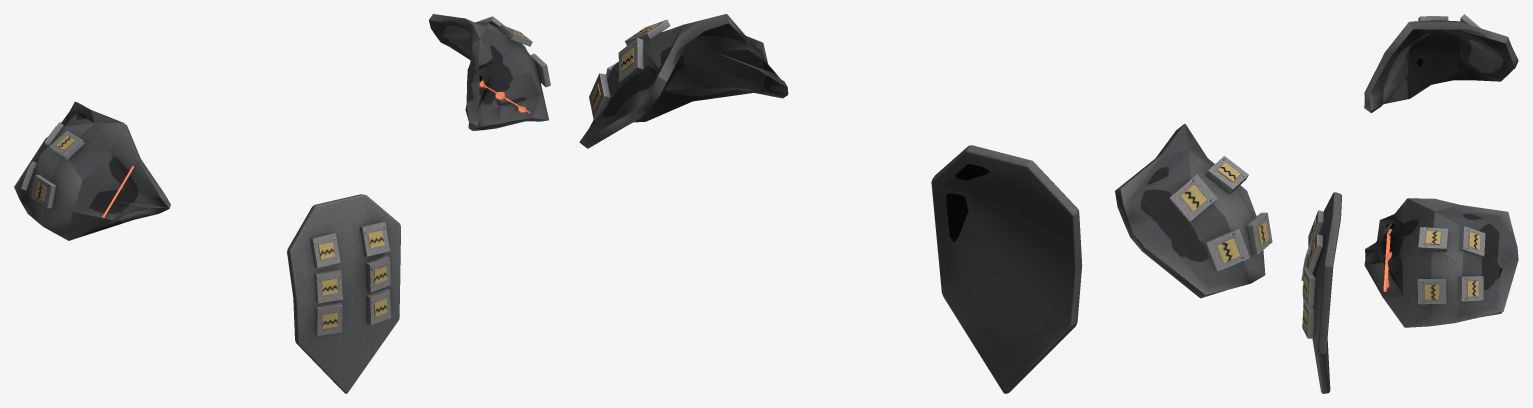
Rendered from rp2_ram_plating.gltf.
3 views of the same model, side by side, from view 1: azimuth 30°, elevation 25°; view 2: azimuth 150°, elevation 25°; view 3: azimuth 270°, elevation 25° (orthographic). The views are drawn at different scales.
Visible parts, largest first — view 1: B_chest__rp2_ram_plating, B_upper_arm_R__rp2_ram_plating, B_upper_arm_L__rp2_ram_plating; view 2: B_chest__rp2_ram_plating, B_upper_arm_R__rp2_ram_plating, B_upper_arm_L__rp2_ram_plating; view 3: B_upper_arm_L__rp2_ram_plating, B_upper_arm_R__rp2_ram_plating, B_chest__rp2_ram_plating.
Boxes of the visible parts, x1,y1,x2,y2 form: B_chest__rp2_ram_plating: (287,194,400,393); B_upper_arm_R__rp2_ram_plating: (14,101,170,240); B_upper_arm_L__rp2_ram_plating: (429,14,550,130); B_chest__rp2_ram_plating: (931,145,1082,393); B_upper_arm_R__rp2_ram_plating: (1115,123,1272,298); B_upper_arm_L__rp2_ram_plating: (579,14,788,148); B_upper_arm_L__rp2_ram_plating: (1364,198,1518,327); B_upper_arm_R__rp2_ram_plating: (1364,14,1518,112); B_chest__rp2_ram_plating: (1301,192,1341,393).
Bounding box in the file's own units: 0.6277 × 0.332 × 0.2302.
Materials: 1 (1 with a texture image).
